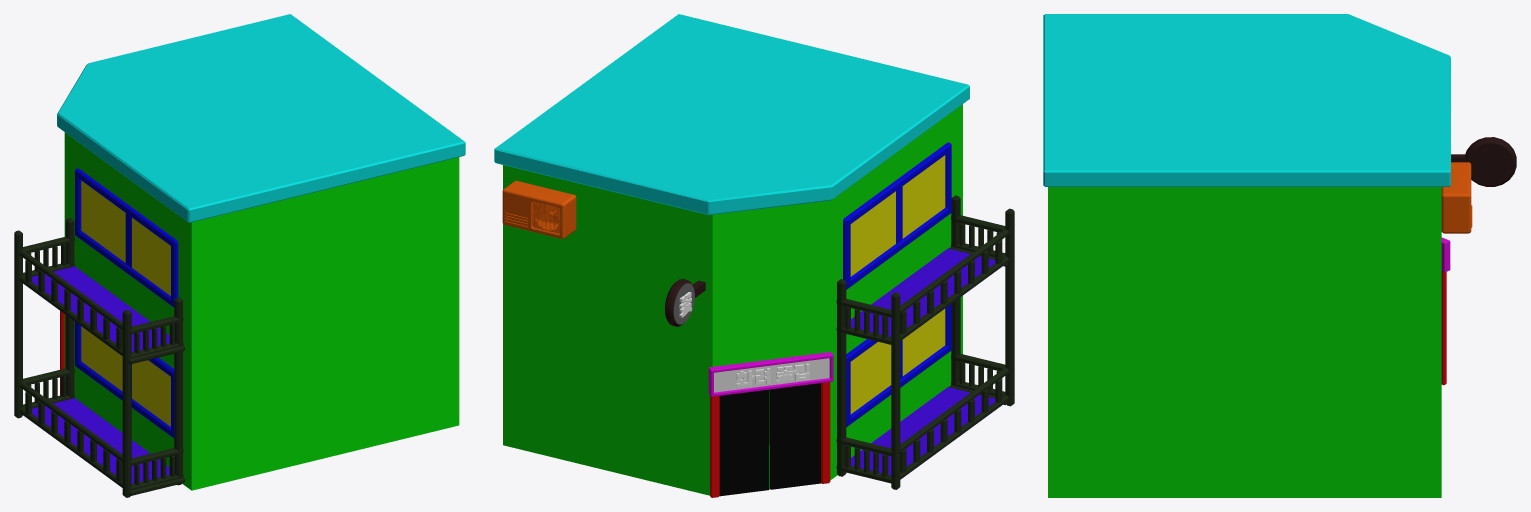
Rendered from Building_1_2.fbx.
3 renders of one model, left to right at view 1: azimuth 30°, elevation 25°; view 2: azimuth 150°, elevation 25°; view 3: azimuth 270°, elevation 25°, orthographic. The views are drawn at different scales.
Parts seen in each view (by area): view 1: polySurface1556; view 2: polySurface1556, polySurface1621, typeMesh29, polySurface1558; view 3: polySurface1556, polySurface1558.
Part boxes in pixels (bbox=[...]): polySurface1556: bbox=[14, 14, 465, 497]; polySurface1556: bbox=[494, 14, 1014, 497]; polySurface1621: bbox=[708, 352, 833, 396]; typeMesh29: bbox=[736, 363, 809, 386]; polySurface1558: bbox=[665, 279, 694, 326]; polySurface1556: bbox=[1043, 14, 1472, 497]; polySurface1558: bbox=[1465, 137, 1516, 186].
Size of the model in its own units: 217 by 178 by 232.
